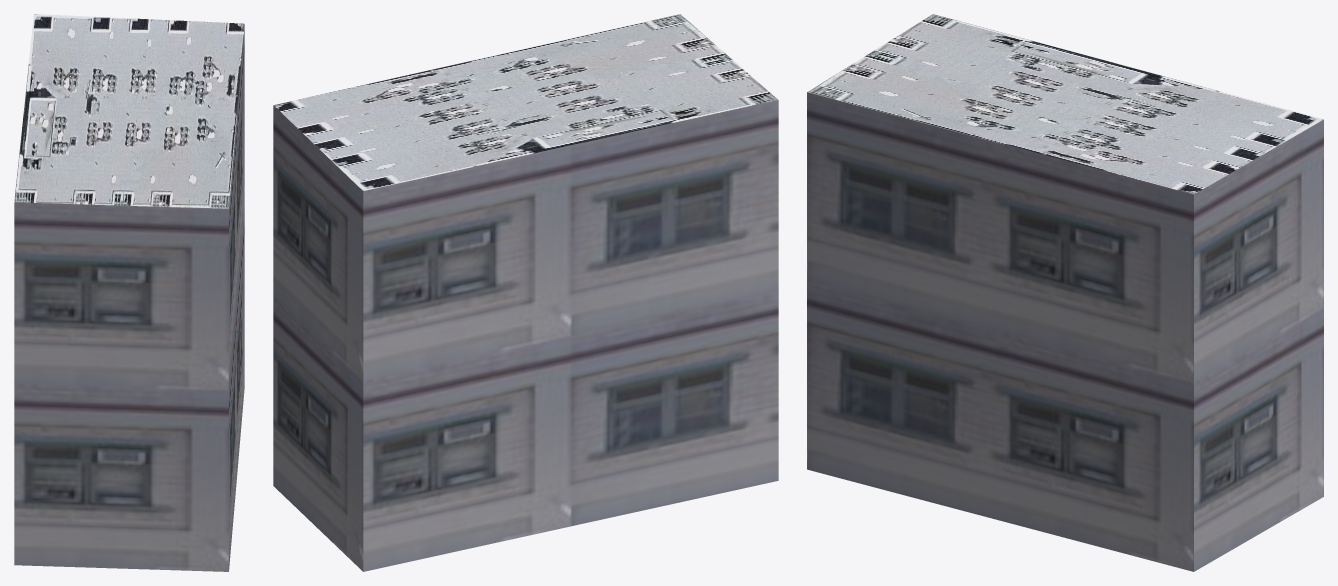
The model's file is ResTex__4508.fbx.
3 renders of one model, left to right at view 1: azimuth 30°, elevation 25°; view 2: azimuth 150°, elevation 25°; view 3: azimuth 270°, elevation 25°, orthographic. The views are drawn at different scales.
Visible parts, largest first — view 1: CityEngineMaterial_1_m, CityEngineMaterial_4_m; view 2: CityEngineMaterial_1_m, CityEngineMaterial_4_m; view 3: CityEngineMaterial_1_m, CityEngineMaterial_4_m.
Part boxes in pixels (x1,y1,x2,y2): CityEngineMaterial_1_m: [14, 27, 244, 571]; CityEngineMaterial_4_m: [14, 14, 244, 208]; CityEngineMaterial_1_m: [273, 100, 778, 571]; CityEngineMaterial_4_m: [273, 14, 777, 190]; CityEngineMaterial_1_m: [807, 92, 1323, 571]; CityEngineMaterial_4_m: [807, 14, 1323, 194].
Size of the model in its own units: 6.16 by 6 by 7.45.
Materials: 2 (2 with a texture image).
